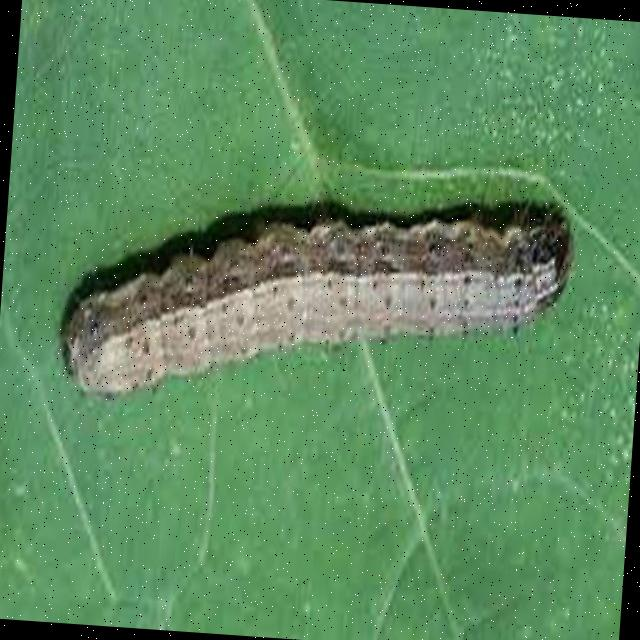worm: (55, 170, 579, 434)
